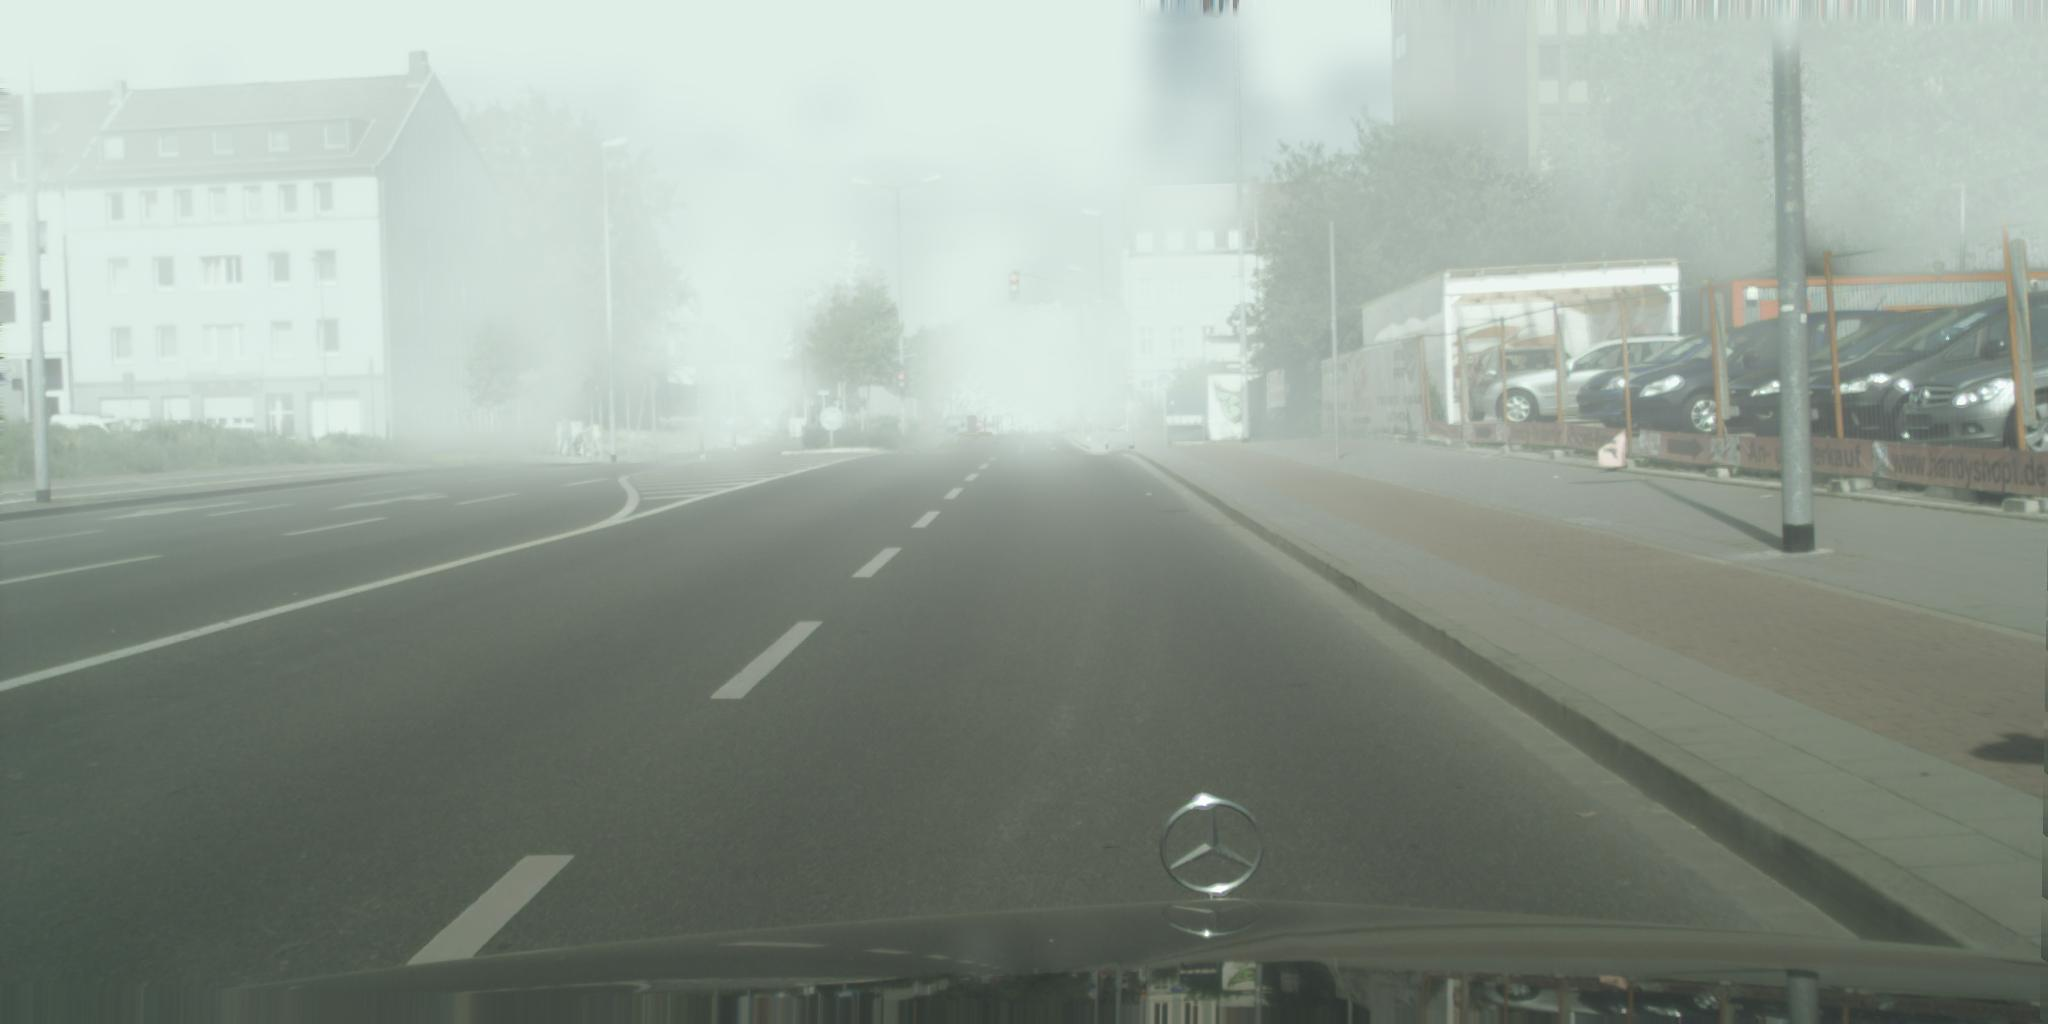car: (46, 414, 142, 443)
